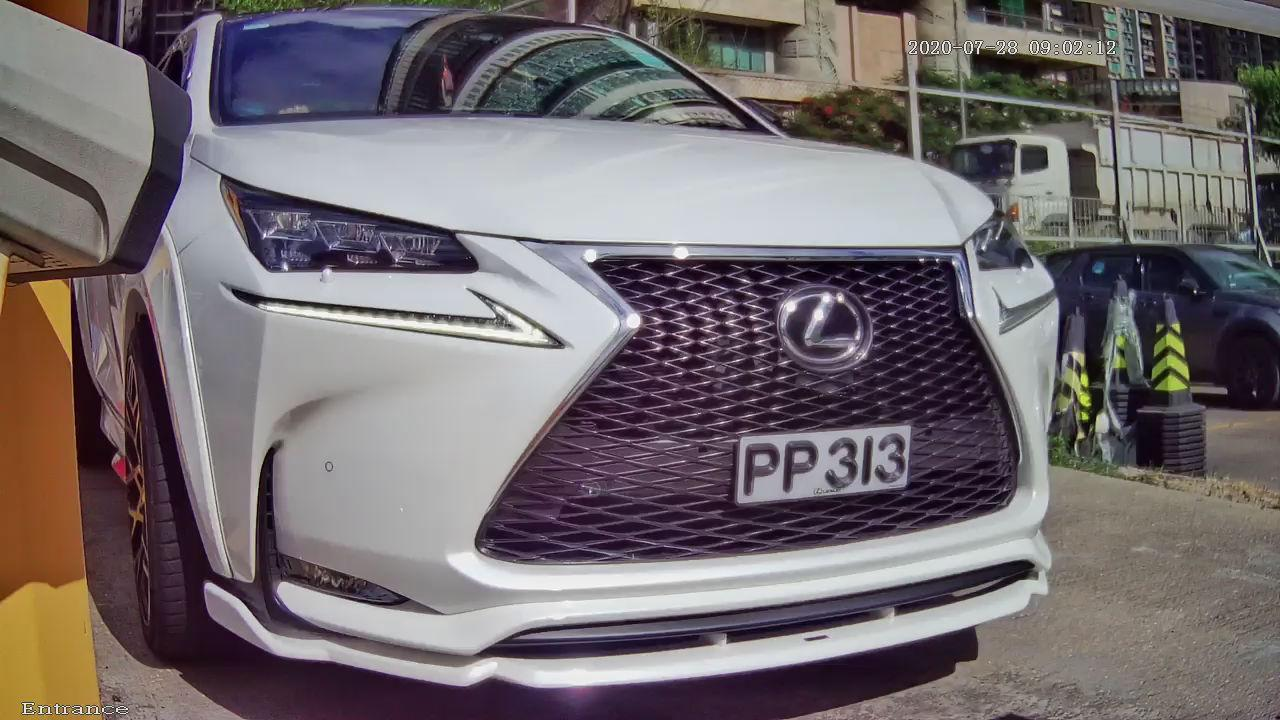privatecar: (86, 7, 1132, 714)
